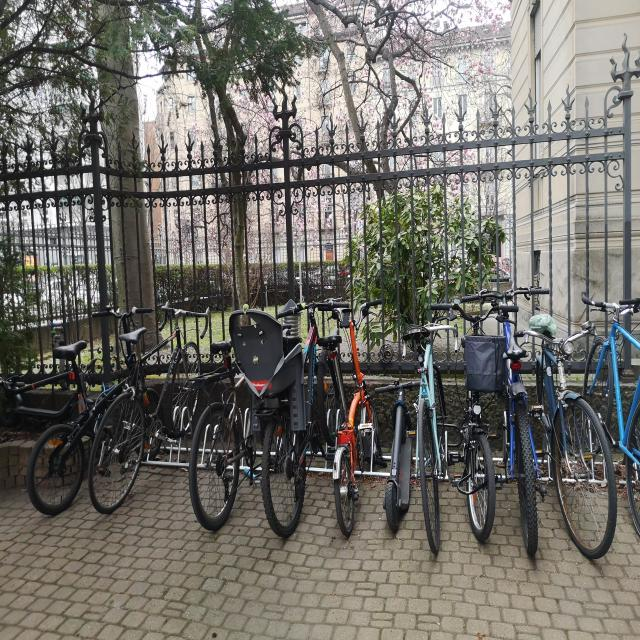Bicycle: (86, 290, 226, 538), (31, 272, 167, 516), (521, 287, 619, 573), (244, 296, 360, 534), (182, 298, 290, 543), (323, 285, 403, 550), (480, 272, 548, 558), (437, 300, 502, 559), (587, 262, 640, 542), (404, 294, 464, 541), (376, 372, 426, 549)
